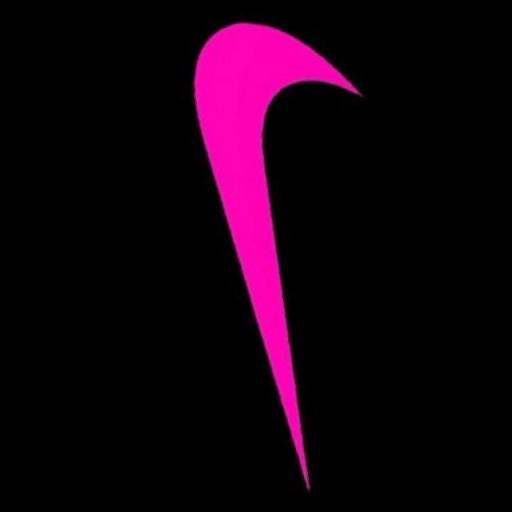Nike: (129, 8, 384, 498)
